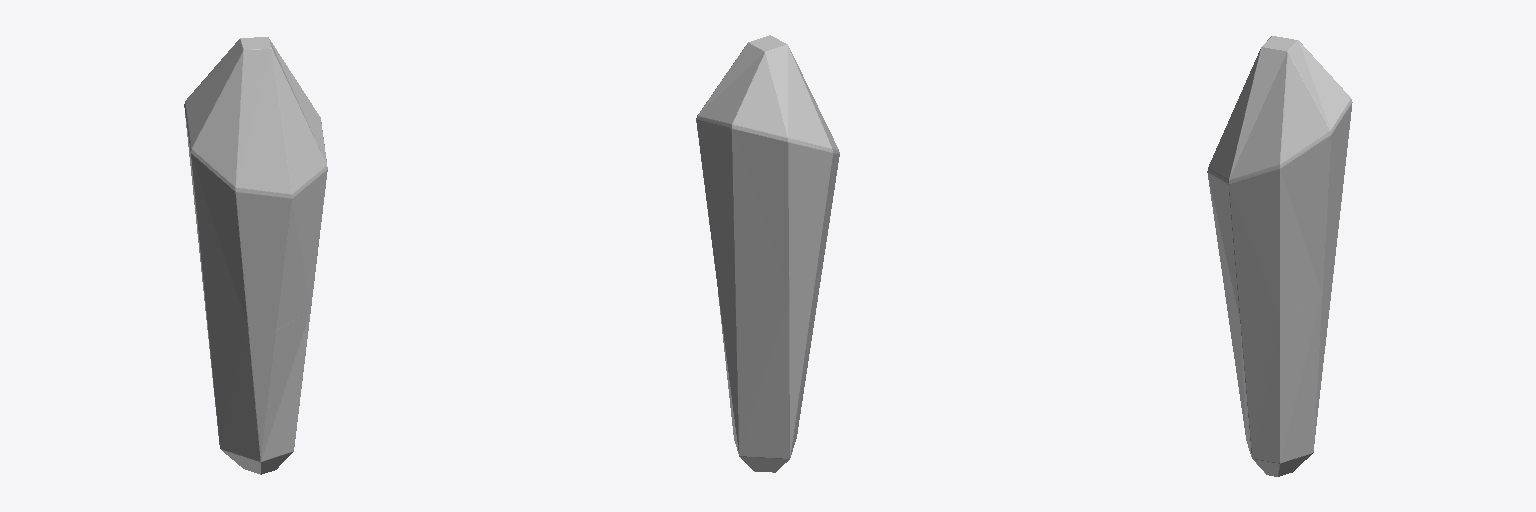
File: miniGemForDoor.obj
3 renders of one model, left to right at view 1: azimuth 30°, elevation 25°; view 2: azimuth 150°, elevation 25°; view 3: azimuth 270°, elevation 25°, orthographic.
Visible parts, largest first — view 1: gemBooleanInsert1; view 2: gemBooleanInsert1; view 3: gemBooleanInsert1.
Boxes of the visible parts, box(x1,y1,x2,y2) form: gemBooleanInsert1: box(184, 37, 327, 474); gemBooleanInsert1: box(696, 35, 839, 472); gemBooleanInsert1: box(1207, 36, 1352, 476).
Bounding box in the file's own units: 0.1029 × 0.3207 × 0.0992.